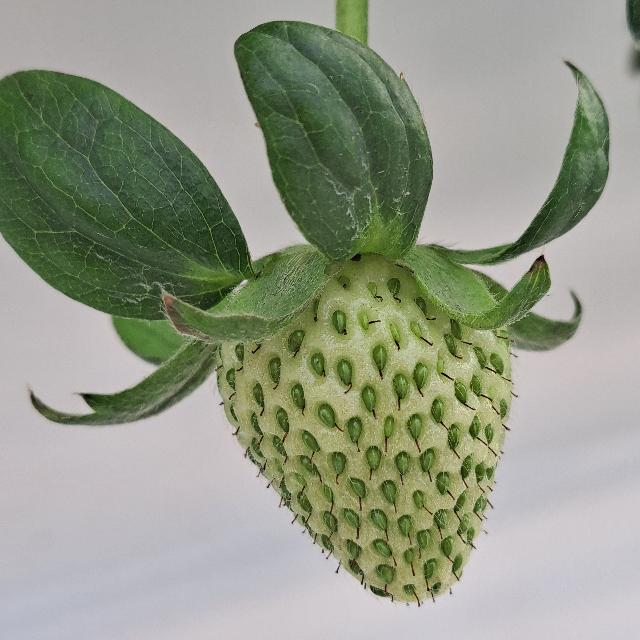Health_25: (215, 253, 512, 603)
